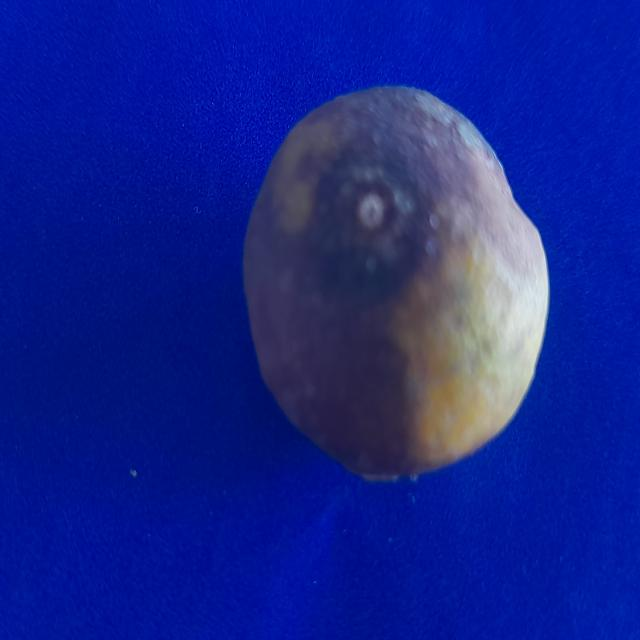black spot: (234, 78, 548, 495)
